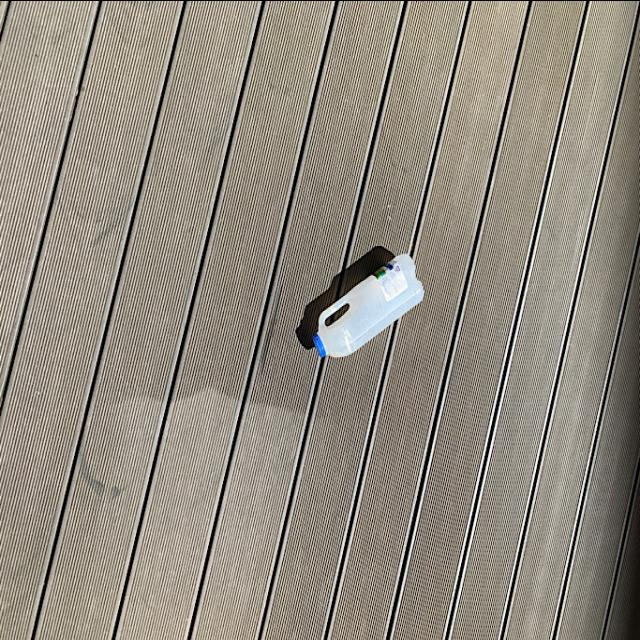HDPEM: (307, 249, 431, 360)
